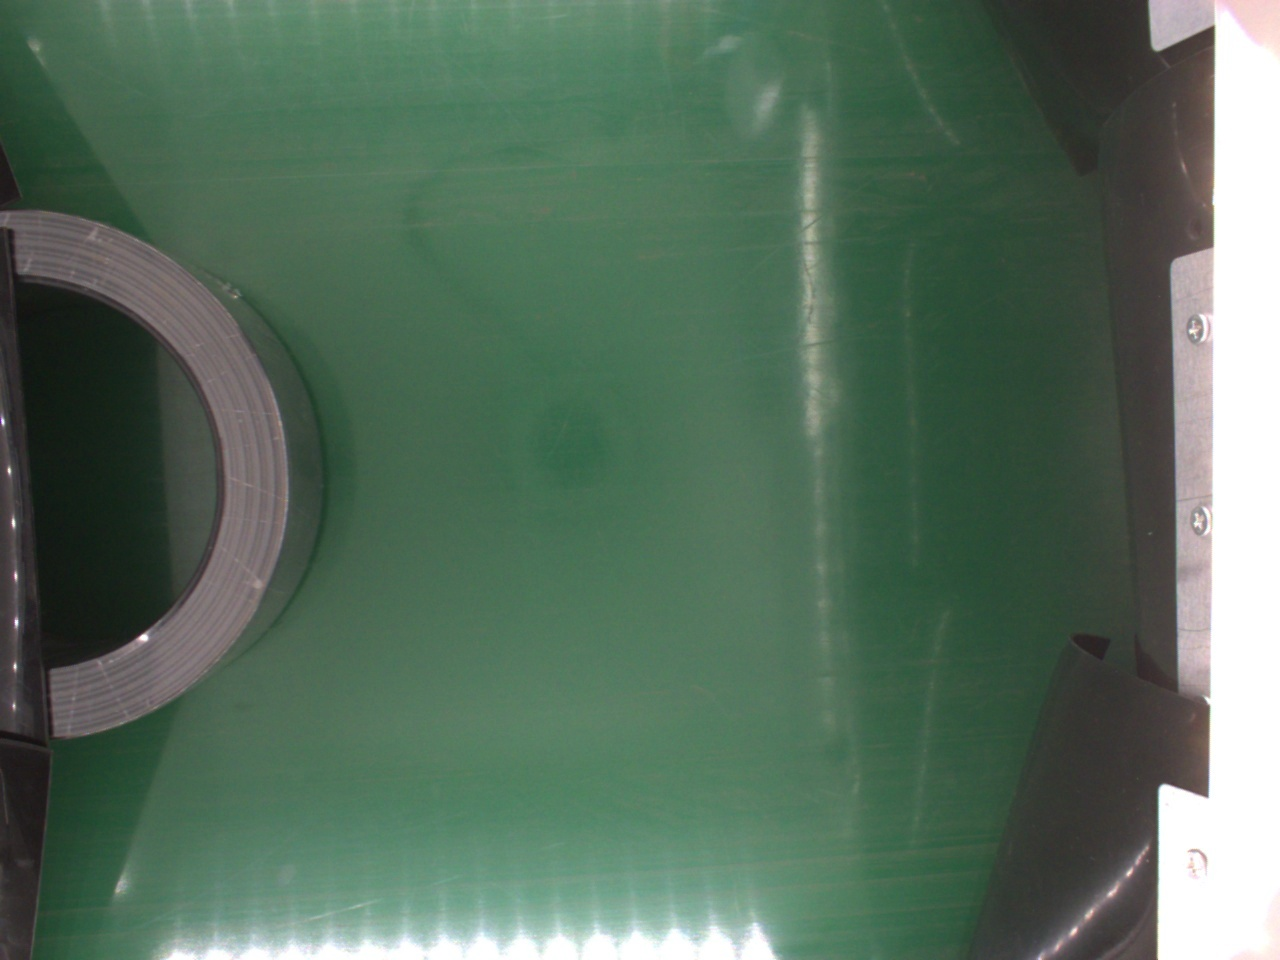black: (4, 202, 323, 743)
